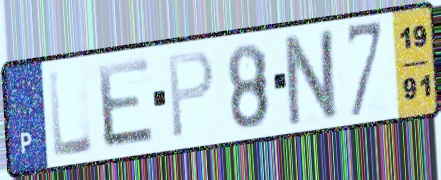7: (345, 19, 388, 122)
8: (225, 41, 272, 132)
E: (94, 55, 158, 151)
L: (46, 65, 96, 161)
N: (283, 25, 342, 130)
P: (166, 48, 217, 143)
